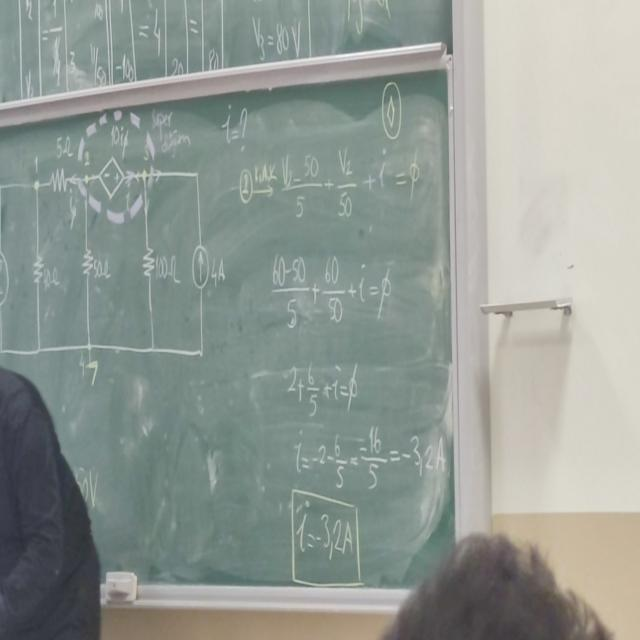math: (0, 92, 226, 370), (264, 245, 397, 330), (277, 149, 429, 223), (294, 426, 448, 496), (287, 494, 363, 578), (282, 355, 365, 419)
